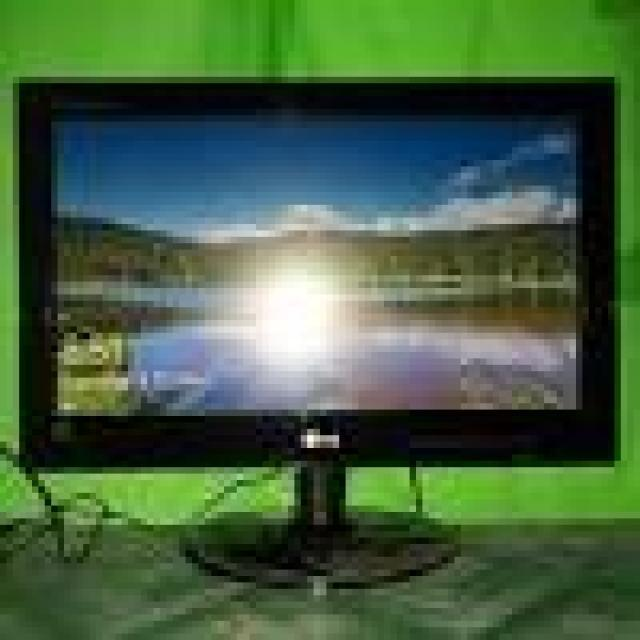monitor: (17, 48, 621, 604)
